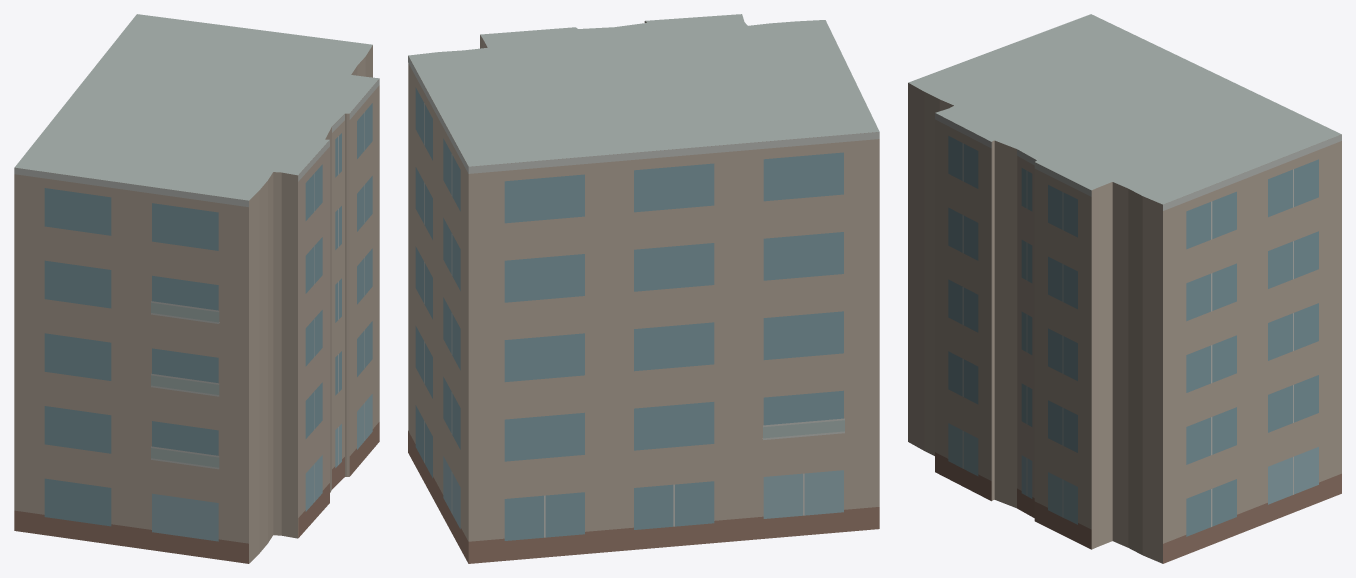
The model's file is survey-upis-32885078.glb.
3 views of the same model, side by side, from view 1: azimuth 30°, elevation 25°; view 2: azimuth 150°, elevation 25°; view 3: azimuth 270°, elevation 25° (orthographic). The views are drawn at different scales.
Visible parts, largest first — view 1: survey-upis-32885078.tmp; view 2: survey-upis-32885078.tmp; view 3: survey-upis-32885078.tmp.
Boxes of the visible parts, box(x1,y1,x2,y2) form: survey-upis-32885078.tmp: box(14, 14, 379, 563); survey-upis-32885078.tmp: box(408, 14, 879, 563); survey-upis-32885078.tmp: box(908, 14, 1341, 563).
Bounding box in the file's own units: 15.26 × 13.4 × 14.67.
